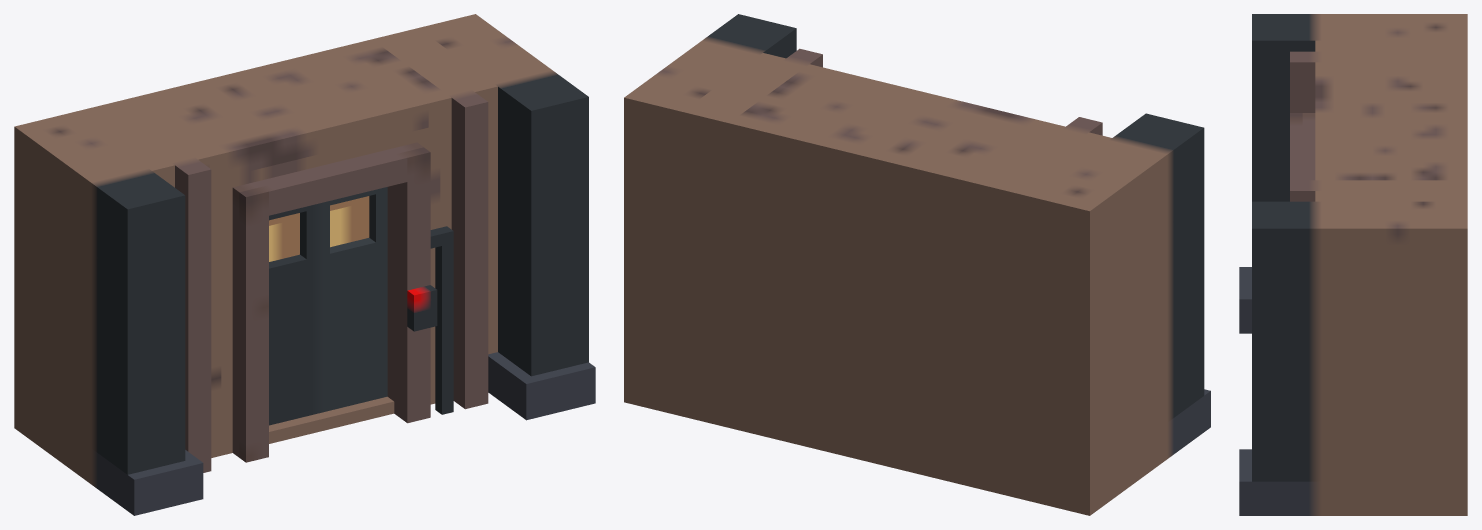
The model's file is BuildingBlock-11.fbx.
3 renders of one model, left to right at view 1: azimuth 30°, elevation 25°; view 2: azimuth 150°, elevation 25°; view 3: azimuth 270°, elevation 25°, orthographic. The views are drawn at different scales.
Visible parts, largest first — view 1: BuildingBlock_11; view 2: BuildingBlock_11; view 3: BuildingBlock_11.
Part boxes in pixels (x1,y1,x2,y2): BuildingBlock_11: (14,14,595,515); BuildingBlock_11: (624,14,1210,515); BuildingBlock_11: (1239,14,1467,515).
Bounding box in the file's own units: 400 × 250 × 180.
2 materials, 2 textured.
